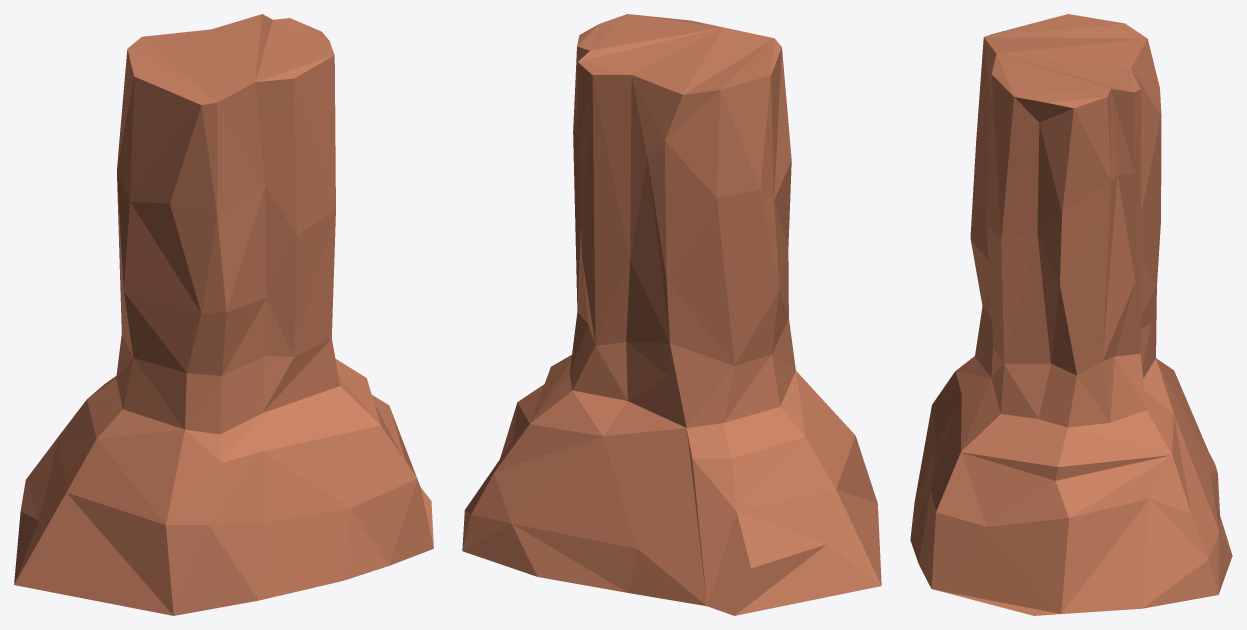
File: west_rock03.FBX
3 renders of one model, left to right at view 1: azimuth 30°, elevation 25°; view 2: azimuth 150°, elevation 25°; view 3: azimuth 270°, elevation 25°, orthographic. The views are drawn at different scales.
Visible parts, largest first — view 1: west_rock03; view 2: west_rock03; view 3: west_rock03.
Part boxes in pixels (<box>): west_rock03: <box>14,14,433,615</box>; west_rock03: <box>462,14,881,615</box>; west_rock03: <box>910,14,1232,615</box>.
Bounding box in the file's own units: 6072 × 7063 × 4356.
